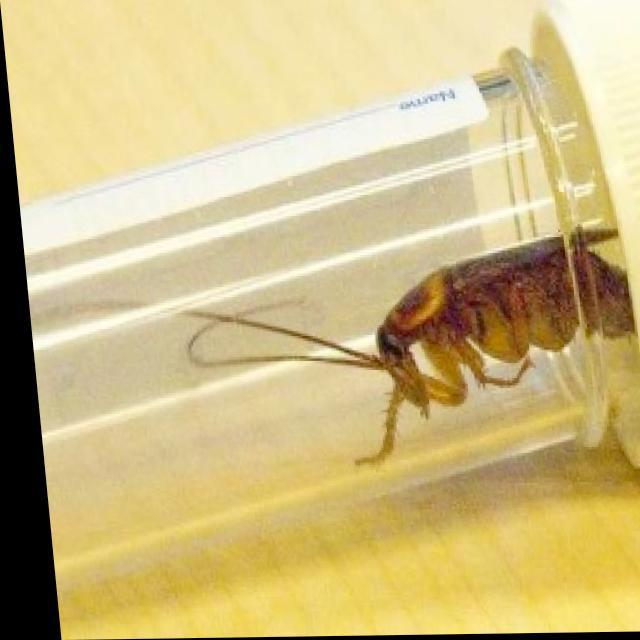cockroach: (180, 226, 637, 472)
